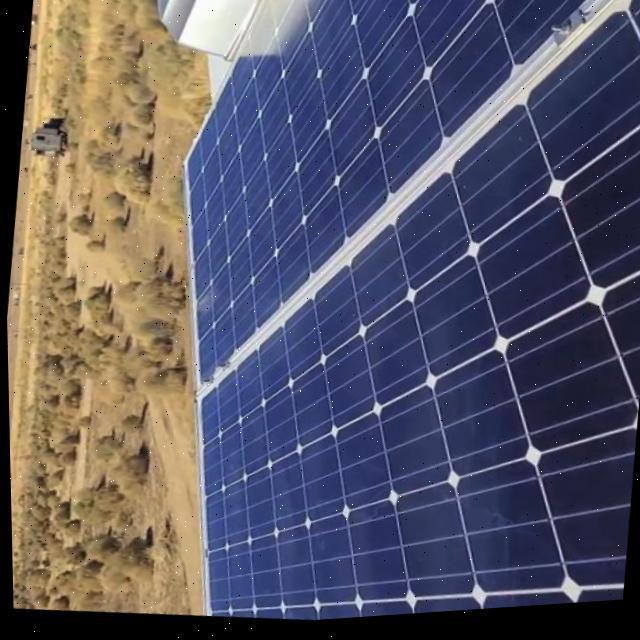Normal Solar Panel: (132, 0, 640, 633)
